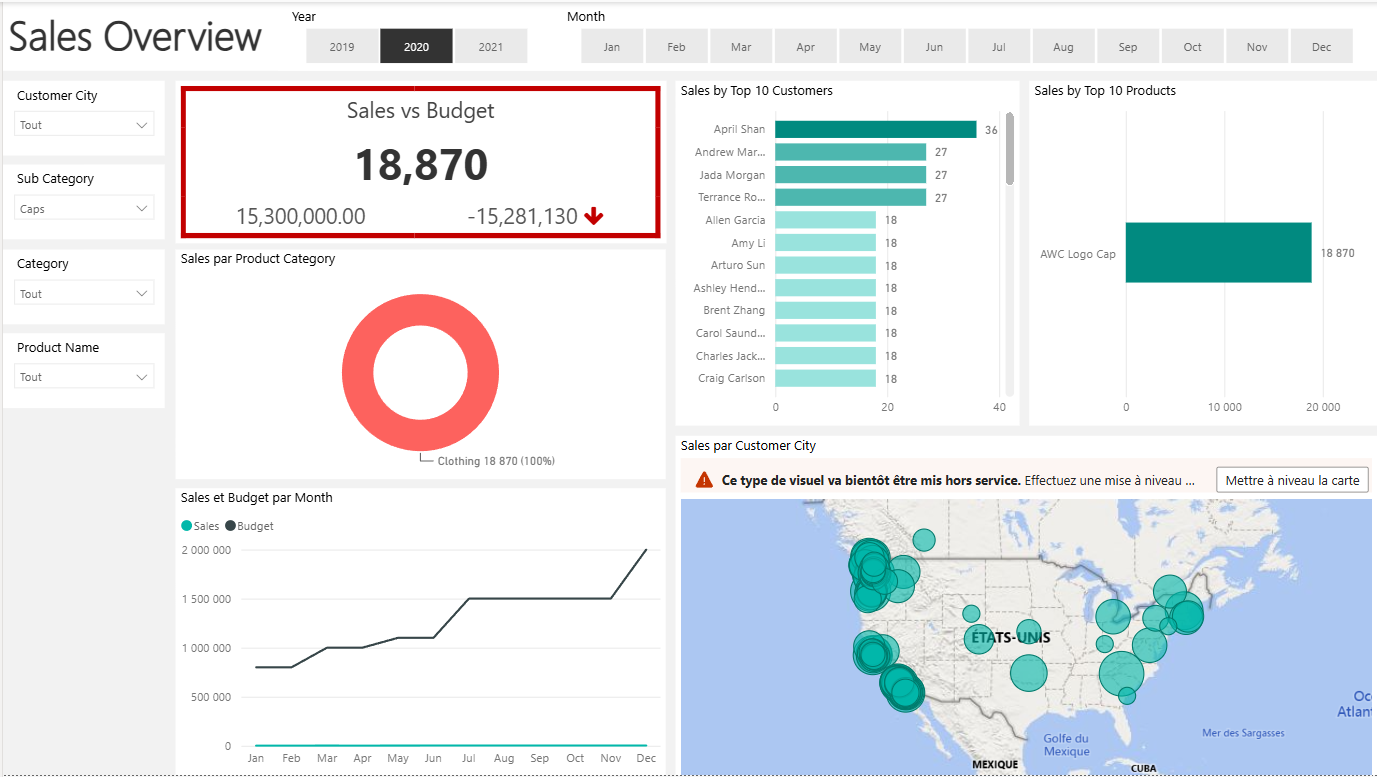

The page's visual inventory and layout, read from the dashboard file:
{"tool":"powerbi","page":{"name":"Sales Overview","canvas":[1280,720],"ordinal":0},"visuals":[{"type":"textbox","box":[0,0,1280,64],"z":0},{"type":"slicer","fields":{"Values":["DIM_Calendar.Year"]},"box":[256,0,256,64],"z":1000},{"type":"slicer","fields":{"Values":["DIM_Calendar.MonthShort"]},"box":[512,0,768,64],"z":2000},{"type":"slicer","fields":{"Values":["DIM_Customers.Customer City"]},"box":[0,73,150.5,69.3],"z":3000},{"type":"slicer","fields":{"Values":["DIM_Products.Product Category"]},"box":[0,229.9,150.5,69.3],"z":4000},{"type":"slicer","fields":{"Values":["DIM_Products.Product Name"]},"box":[0,308.4,150.5,69.3],"z":5000},{"type":"slicer","fields":{"Values":["DIM_Products.Sub Category"]},"box":[0,151.4,150.5,69.3],"z":6000},{"type":"barChart","title":"Sales by Top 10 Products","fields":{"Category":["DIM_Products.Product Name"],"Y":["Analysis Metrics.Sales"]},"box":[955.2,73,324.8,321.1],"z":7000},{"type":"lineChart","fields":{"Category":["DIM_Calendar.MonthShort"],"Y":["Analysis Metrics.Sales","Analysis Metrics.Budget"]},"box":[160.7,452.8,456.3,267.2],"z":8000},{"type":"barChart","title":"Sales by Top 10 Customers","fields":{"Category":["DIM_Customers.Full Name"],"Y":["Analysis Metrics.Sales"]},"box":[625.9,73,320.2,321.1],"z":9000},{"type":"donutChart","fields":{"Series":["DIM_Products.Product Category"],"Y":["Analysis Metrics.Sales"]},"box":[160.6,229.9,456.2,213.5],"z":10000},{"type":"map","fields":{"Category":["DIM_Customers.Customer City"],"Size":["Analysis Metrics.Sales"]},"box":[625.9,403.3,654.1,316.6],"z":12000},{"type":"BBED0A4D4D8D44CE93CF2DAFADEE466C","fields":{"actual":["Analysis Metrics.Sales"],"target2":["Analysis Metrics.Sales / Budget"],"target1":["Analysis Metrics.Budget"]},"box":[160.5,73.4,456.6,151.3],"z":13001}]}

Visuals, with their boxes in screenshot pixels (x1, y1, x2, y2), scaled from the page's 1280x720 canvas onto the 1377x777 screenshot:
textbox: box(0, 0, 1376, 69)
slicer - DIM_Calendar.Year: box(275, 0, 551, 69)
slicer - DIM_Calendar.MonthShort: box(551, 0, 1376, 69)
slicer - DIM_Customers.Customer City: box(0, 79, 162, 154)
slicer - DIM_Products.Product Category: box(0, 248, 162, 323)
slicer - DIM_Products.Product Name: box(0, 333, 162, 408)
slicer - DIM_Products.Sub Category: box(0, 163, 162, 238)
"Sales by Top 10 Products" barChart: box(1028, 79, 1376, 425)
lineChart - DIM_Calendar.MonthShort x Analysis Metrics.Sales: box(173, 489, 664, 776)
"Sales by Top 10 Customers" barChart: box(673, 79, 1018, 425)
donutChart - DIM_Products.Product Category x Analysis Metrics.Sales: box(173, 248, 664, 479)
map - DIM_Customers.Customer City x Analysis Metrics.Sales: box(673, 435, 1376, 776)
BBED0A4D4D8D44CE93CF2DAFADEE466C - Analysis Metrics.Sales x Analysis Metrics.Sales / Budget: box(173, 79, 664, 242)
